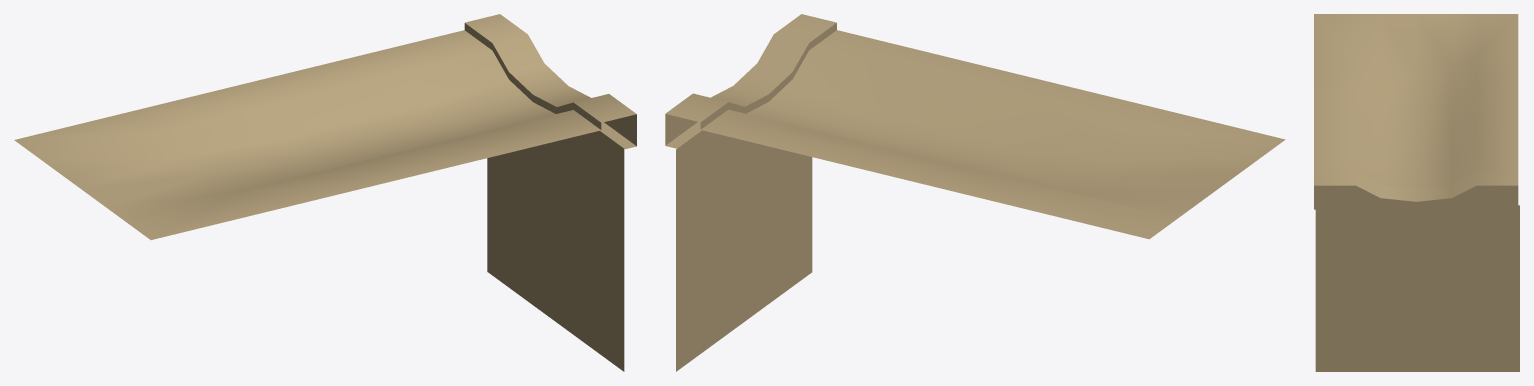
Rendered from Groundpiece_Drain_1x2_Sewer_Environment.FBX.
The picture shows the model from 3 angles, left to right: view 1: azimuth 30°, elevation 25°; view 2: azimuth 150°, elevation 25°; view 3: azimuth 270°, elevation 25°; orthographic projection. The views are drawn at different scales.
Parts seen in each view (by area): view 1: Abflussteil; view 2: Abflussteil; view 3: Abflussteil.
Boxes of the visible parts, x1=… form: Abflussteil: x1=14, y1=14, x2=636, y2=371; Abflussteil: x1=665, y1=14, x2=1285, y2=371; Abflussteil: x1=1314, y1=14, x2=1519, y2=371.
Bounding box in the file's own units: 205 × 103 × 101.
